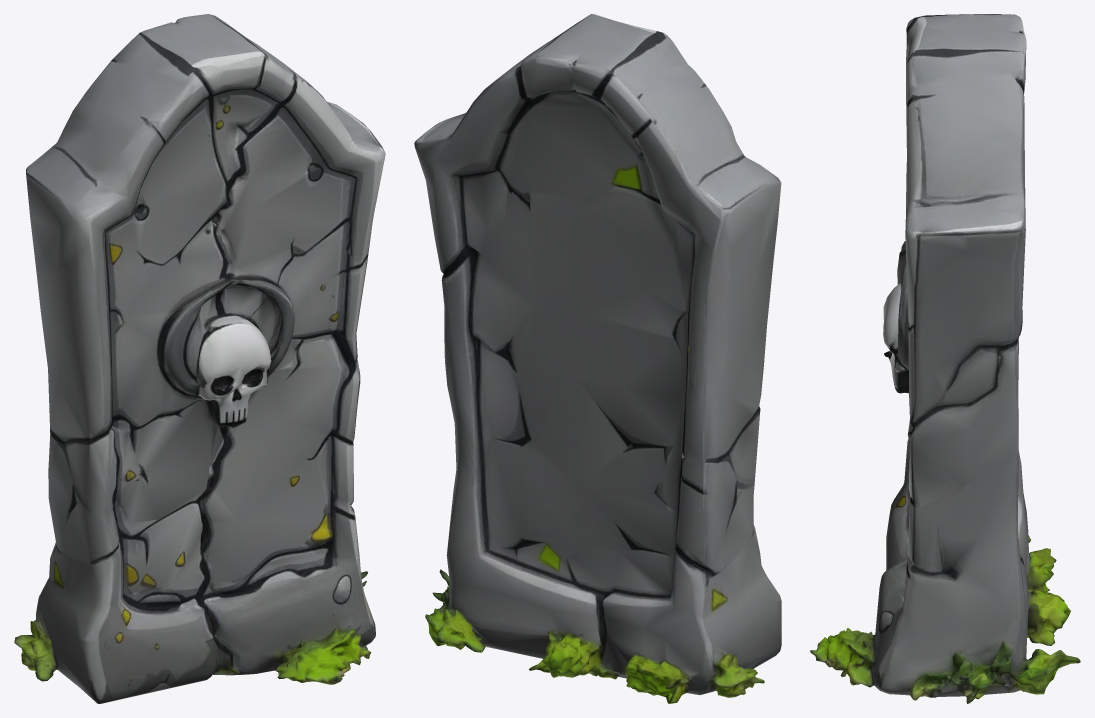
Rendered from Tombstone.opt.glb.
3 renders of one model, left to right at view 1: azimuth 30°, elevation 25°; view 2: azimuth 150°, elevation 25°; view 3: azimuth 270°, elevation 25°, orthographic.
Bounding box in the file's own units: 1.13 × 2 × 0.8089.
Materials: 1 (1 with a texture image).
